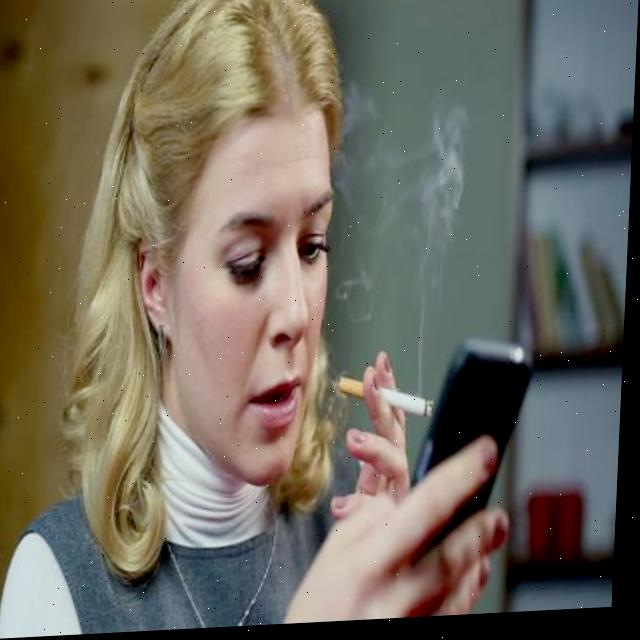cigarette: (337, 376, 438, 427)
